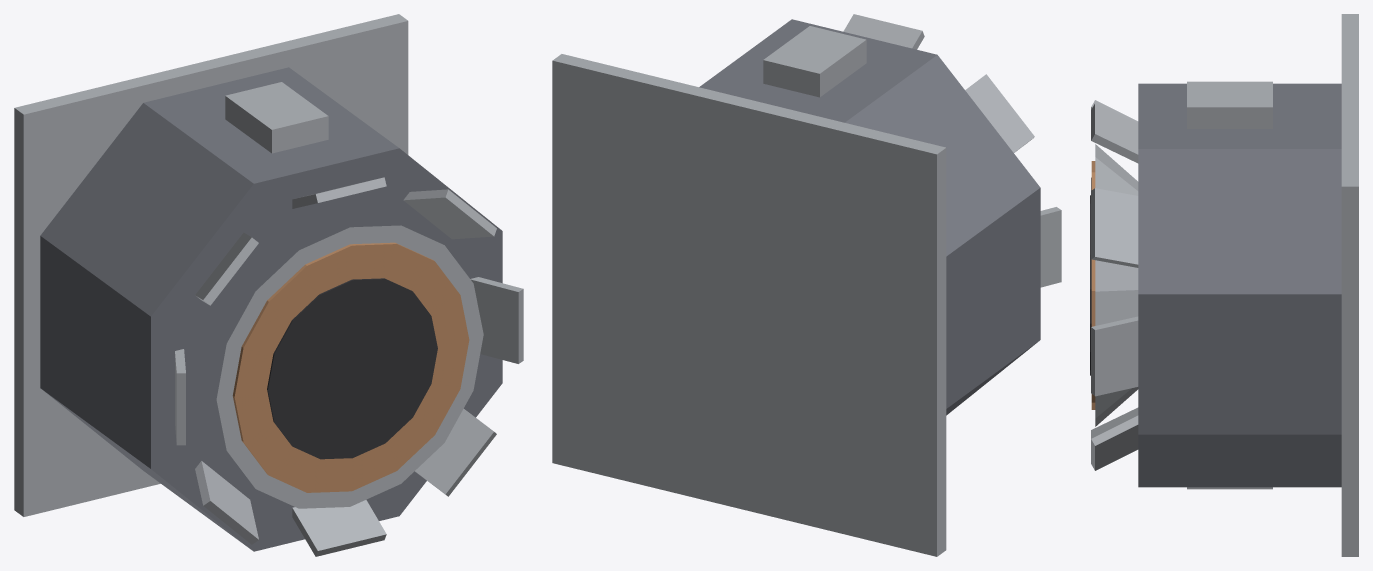
Rendered from shell_vector.glb.
The picture shows the model from 3 angles, left to right: view 1: azimuth 30°, elevation 25°; view 2: azimuth 150°, elevation 25°; view 3: azimuth 270°, elevation 25°; orthographic projection. The views are drawn at different scales.
Bounding box in the file's own units: 2.85 × 2.94 × 1.88.
